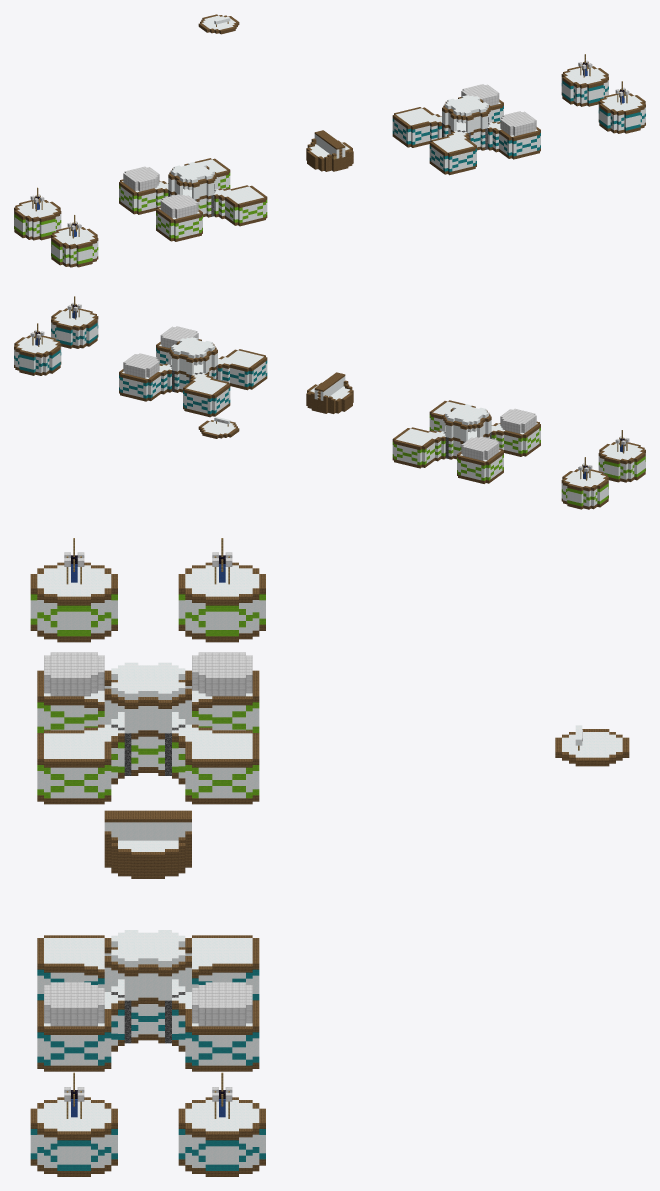
Rendered from minecraft.obj.
3 renders of one model, top to bottom at view 1: azimuth 30°, elevation 25°; view 2: azimuth 150°, elevation 25°; view 3: azimuth 270°, elevation 25°, orthographic. The views are drawn at different scales.
Bounding box in the file's own units: 201 × 26 × 89.
